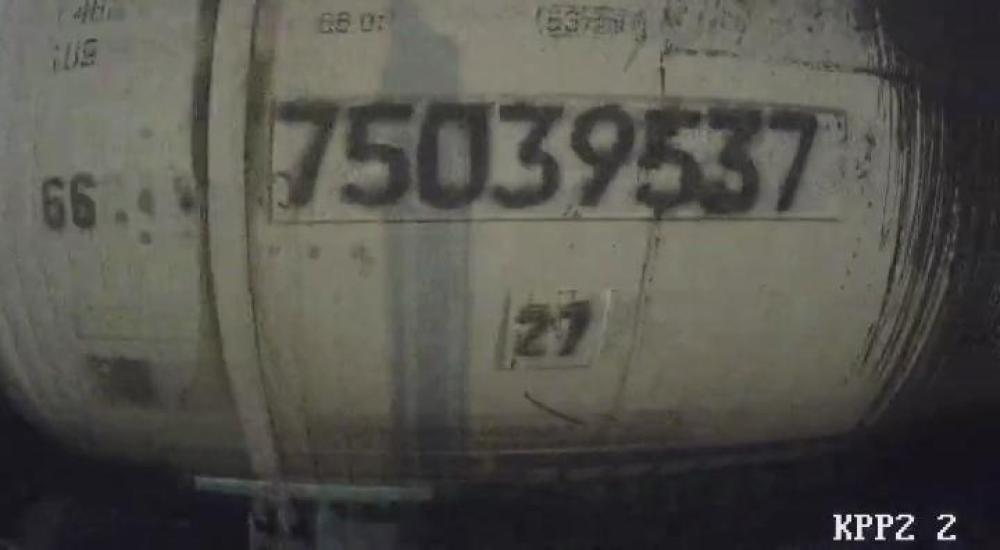Wagon-number: (272, 94, 824, 216)
